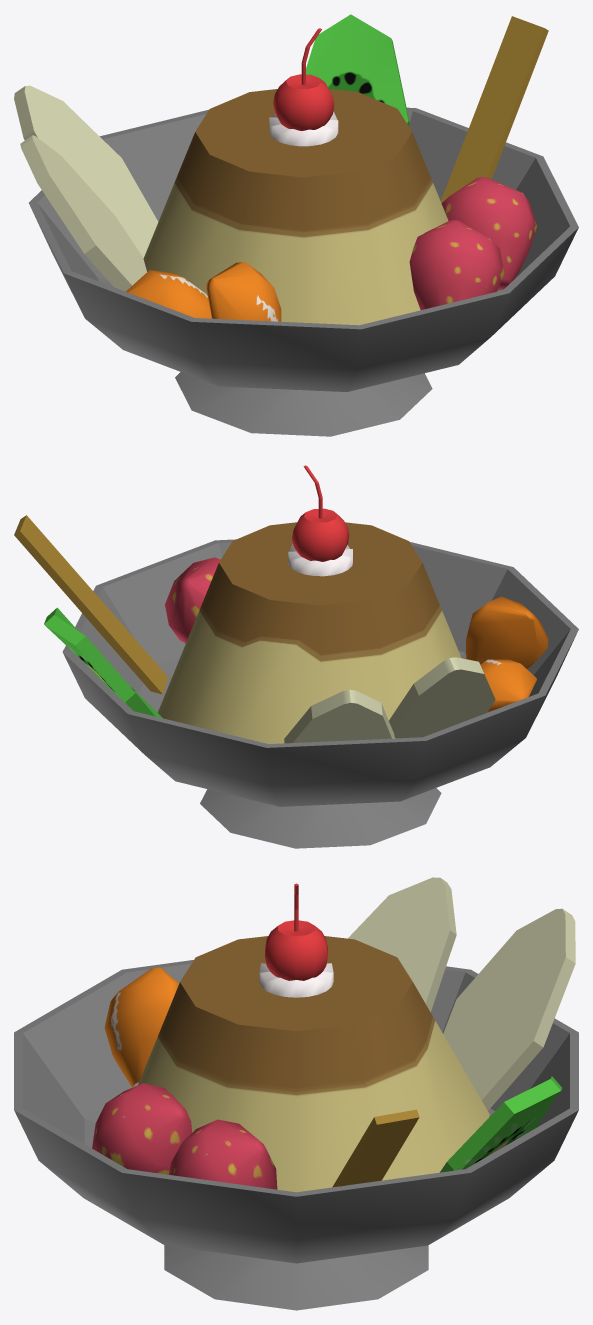
File: Purine a la Mode.fbx
The picture shows the model from 3 angles, top to bottom: view 1: azimuth 30°, elevation 25°; view 2: azimuth 150°, elevation 25°; view 3: azimuth 270°, elevation 25°; orthographic projection. The views are drawn at different scales.
Visible parts, largest first — view 1: Steels, pCylinder1, pPlane3, pPlane2, pCube1, pCylinder4, pPlane1, pCylinder7, pCylinder3, pSphere1, pCylinder5, pCylinder6; view 2: Steels, pCylinder1, pPlane2, pCube1, pCylinder3, pPlane3, pSphere1, pPlane1, pCylinder7, pCylinder5, pCylinder6; view 3: Steels, pCylinder1, pPlane3, pPlane2, pCylinder4, pCylinder7, pCylinder3, pPlane1, pSphere1, pCube1, pCylinder6.
Boxes of the visible parts, x1=… form: Steels: x1=29, y1=107, x2=578, y2=436; pCylinder1: x1=143, y1=89, x2=448, y2=325; pPlane3: x1=14, y1=85, x2=158, y2=257; pPlane2: x1=20, y1=135, x2=146, y2=291; pCube1: x1=441, y1=16, x2=548, y2=203; pCylinder4: x1=409, y1=220, x2=504, y2=309; pPlane1: x1=306, y1=14, x2=409, y2=125; pCylinder7: x1=441, y1=177, x2=536, y2=289; pCylinder3: x1=206, y1=262, x2=281, y2=321; pSphere1: x1=273, y1=28, x2=334, y2=130; pCylinder5: x1=126, y1=270, x2=211, y2=318; pCylinder6: x1=269, y1=111, x2=338, y2=146; Steels: x1=62, y1=539, x2=578, y2=848; pCylinder1: x1=157, y1=522, x2=461, y2=743; pPlane2: x1=389, y1=657, x2=495, y2=738; pCube1: x1=14, y1=515, x2=168, y2=694; pCylinder3: x1=465, y1=596, x2=548, y2=668; pPlane3: x1=284, y1=689, x2=394, y2=743; pSphere1: x1=292, y1=465, x2=349, y2=561; pPlane1: x1=44, y1=607, x2=162, y2=718; pCylinder7: x1=165, y1=557, x2=220, y2=643; pCylinder5: x1=480, y1=659, x2=536, y2=712; pCylinder6: x1=288, y1=544, x2=352, y2=576; Steels: x1=14, y1=960, x2=578, y2=1310; pCylinder1: x1=138, y1=936, x2=489, y2=1192; pPlane3: x1=443, y1=908, x2=575, y2=1110; pPlane2: x1=348, y1=877, x2=456, y2=1012; pCylinder4: x1=92, y1=1083, x2=191, y2=1174; pCylinder7: x1=169, y1=1119, x2=277, y2=1189; pCylinder3: x1=104, y1=967, x2=178, y2=1087; pPlane1: x1=440, y1=1076, x2=561, y2=1172; pSphere1: x1=265, y1=883, x2=327, y2=980; pCube1: x1=332, y1=1109, x2=419, y2=1187; pCylinder6: x1=259, y1=963, x2=333, y2=997.
Size of the model in its own units: 59.07 by 38.72 by 51.57.
